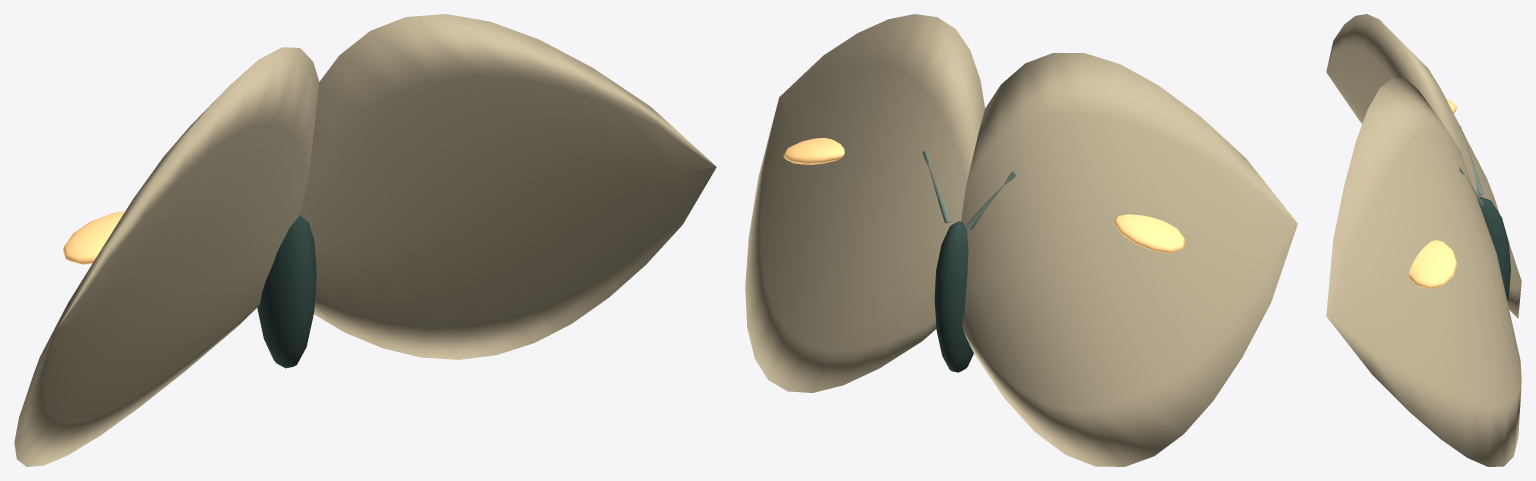
Rendered from moth.glb.
The picture shows the model from 3 angles, left to right: view 1: azimuth 30°, elevation 25°; view 2: azimuth 150°, elevation 25°; view 3: azimuth 270°, elevation 25°; orthographic projection. The views are drawn at different scales.
Visible parts, largest first — view 1: wing-left, wing-right, Vesper / moth; view 2: wing-right, wing-left, Vesper / moth; view 3: wing-left, wing-right, Vesper / moth.
Boxes of the visible parts, x1,y1,x2,y2 form: wing-left: (300, 14, 716, 359); wing-right: (14, 47, 319, 466); Vesper / moth: (63, 211, 316, 368); wing-right: (961, 53, 1297, 466); wing-left: (745, 14, 984, 392); Vesper / moth: (783, 138, 1185, 372); wing-left: (1326, 78, 1521, 466); wing-right: (1326, 14, 1521, 317); Vesper / moth: (1409, 99, 1510, 301).
Bounding box in the file's own units: 1.5 × 0.9503 × 0.5095.
